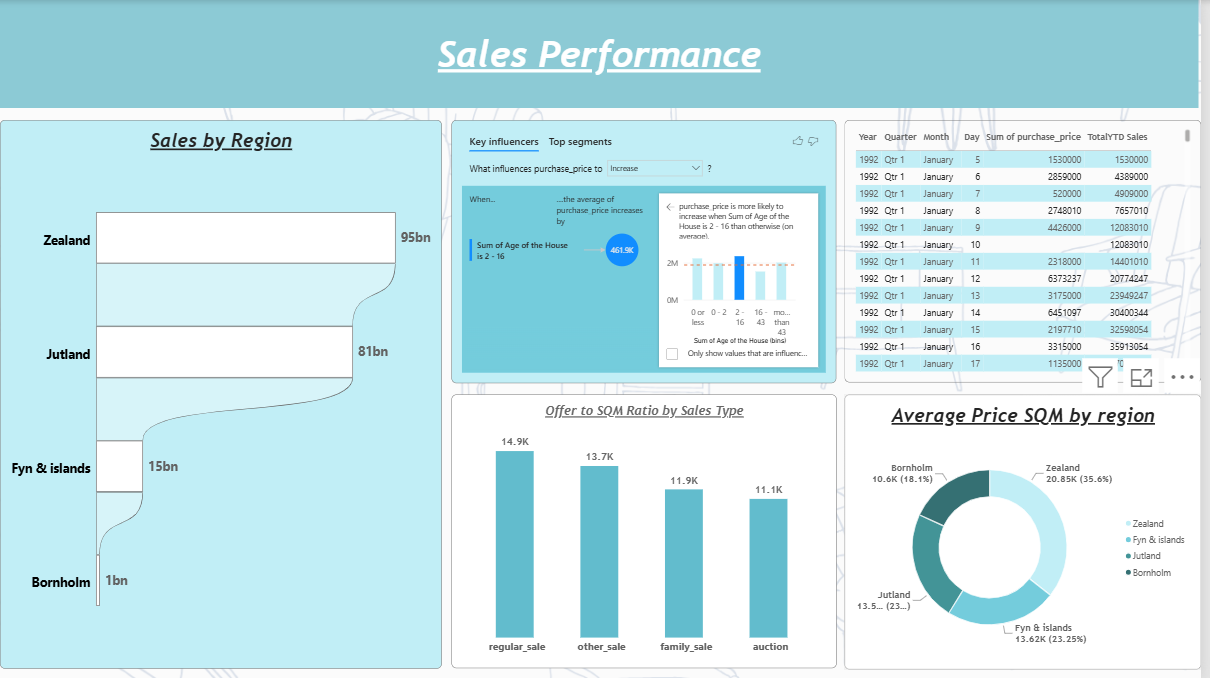

Layout of this report page (visuals, bound fields, positions):
{"tool":"powerbi","page":{"name":"Sales Performance Page","canvas":[1920,1080],"ordinal":1},"visuals":[{"type":"shape","box":[9.5,0,1906.3,171.8],"z":0},{"type":"barChart","title":"Sales by Region ","fields":{"Category":["Housing Data.region"],"Y":["Measures Table 2.Sales by Region"]},"box":[10,190,702.5,872.5],"z":1},{"type":"tableEx","fields":{"Values":["Housing Data.date.Variation.Date Hierarchy.Year","Housing Data.date.Variation.Date Hierarchy.Quarter","Housing Data.date.Variation.Date Hierarchy.Month","Housing Data.date.Variation.Date Hierarchy.Day","Sum(Housing Data.purchase_price)","Measures Table 2.TotalYTD Sales"]},"box":[1352.5,190,567.5,417.5],"z":2},{"type":"donutChart","fields":{"Category":["Housing Data.region"],"Y":["Measures Table 2.Average Price SQM"]},"box":[1352.5,627.5,567.5,437.5],"z":3},{"type":"keyDriversVisual","fields":{"ExplainBy":["Sum(Housing Data.Age of the House)"],"Target":["Housing Data.purchase_price"]},"box":[728.3,190,611.7,418.3],"z":4},{"type":"columnChart","title":"Offer to SQM Ratio by Sales Type","fields":{"Category":["Housing Data.sales_type"],"Y":["Measures Table 2.Offer to SQM Ratio"]},"box":[727.5,627.5,612.5,435],"z":5}]}

Visuals, with their boxes in screenshot pixels (x1, y1, x2, y2), scaled from the page's 1920x1080 canvas onto the 1210x678 screenshot:
shape: x1=6 y1=0 x2=1207 y2=108
"Sales by Region " barChart: x1=6 y1=119 x2=449 y2=667
tableEx - Housing Data.date.Variation.Date Hierarchy.Year x Housing Data.date.Variation.Date Hierarchy.Quarter: x1=852 y1=119 x2=1209 y2=381
donutChart - Housing Data.region x Measures Table 2.Average Price SQM: x1=852 y1=394 x2=1209 y2=669
keyDriversVisual - Sum(Housing Data.Age of the House) x Housing Data.purchase_price: x1=459 y1=119 x2=844 y2=382
"Offer to SQM Ratio by Sales Type" columnChart: x1=458 y1=394 x2=844 y2=667
